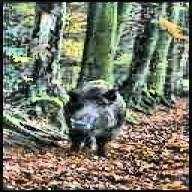boar: (64, 78, 126, 151)
